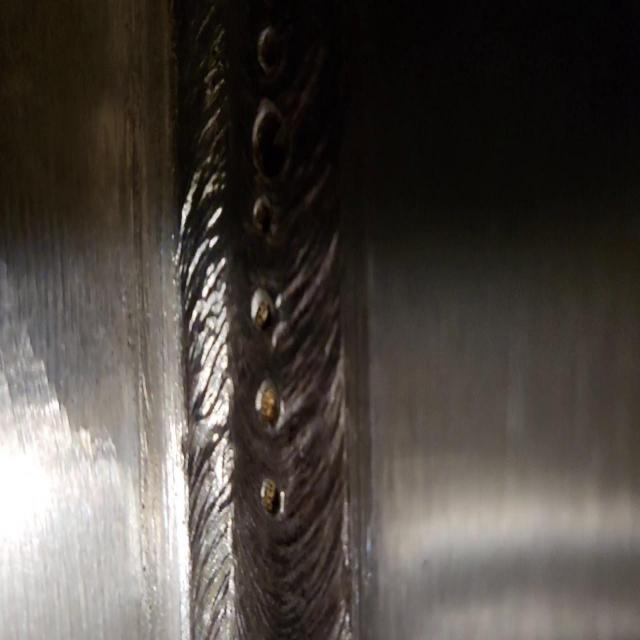Welding Line: (176, 3, 350, 640)
porosity: (251, 24, 290, 519)
